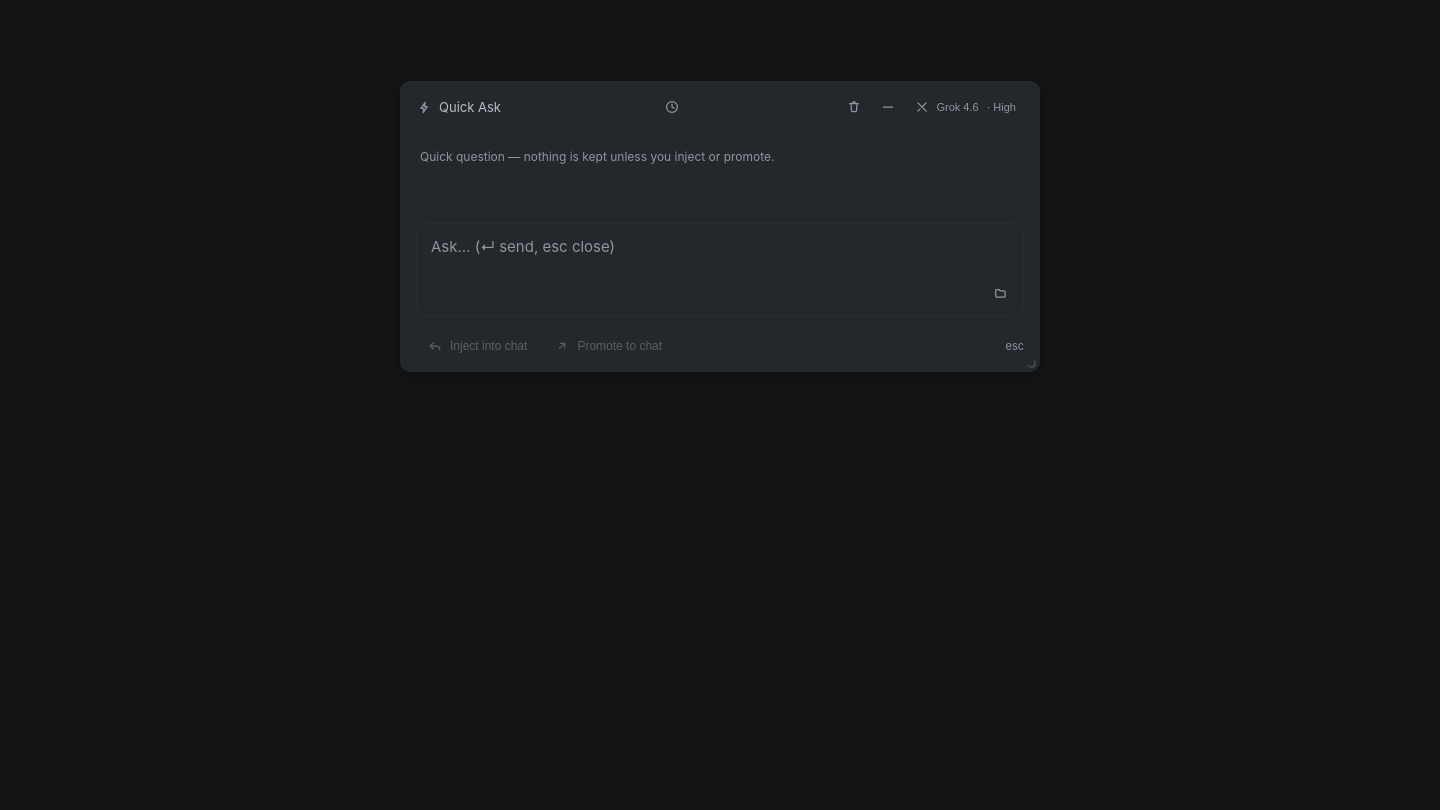
Test: rendu des réponses › affiche un échec générique quand done ok:false n'a pas de détail
The width and height of the screenshot is (1440, 810).
In the text box with placeholder "Ask… (↵ send, esc close)": (720, 270) [425, 232, 1015, 307], type "pourquoi"
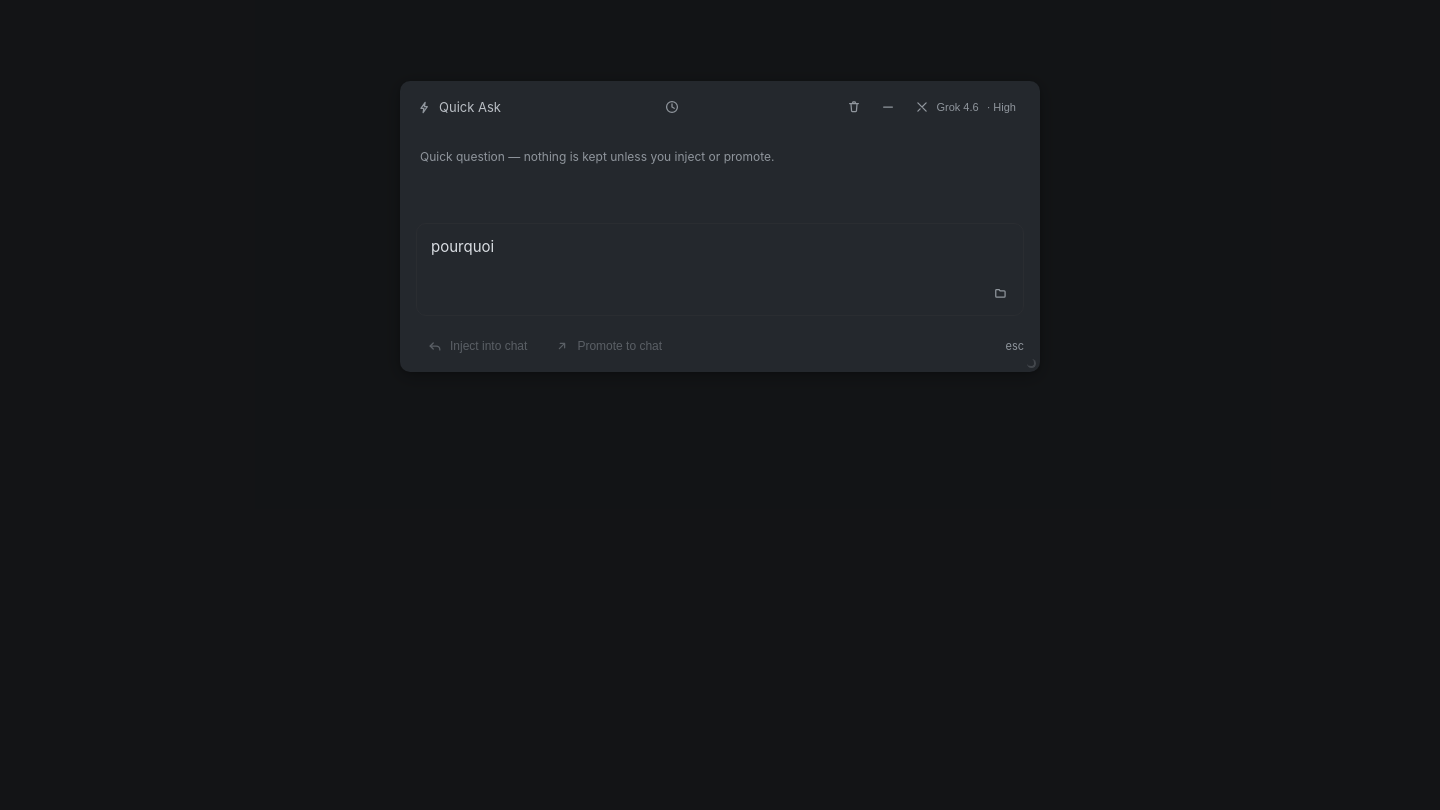
Press Enter in the text box, box [425, 232, 1015, 307]
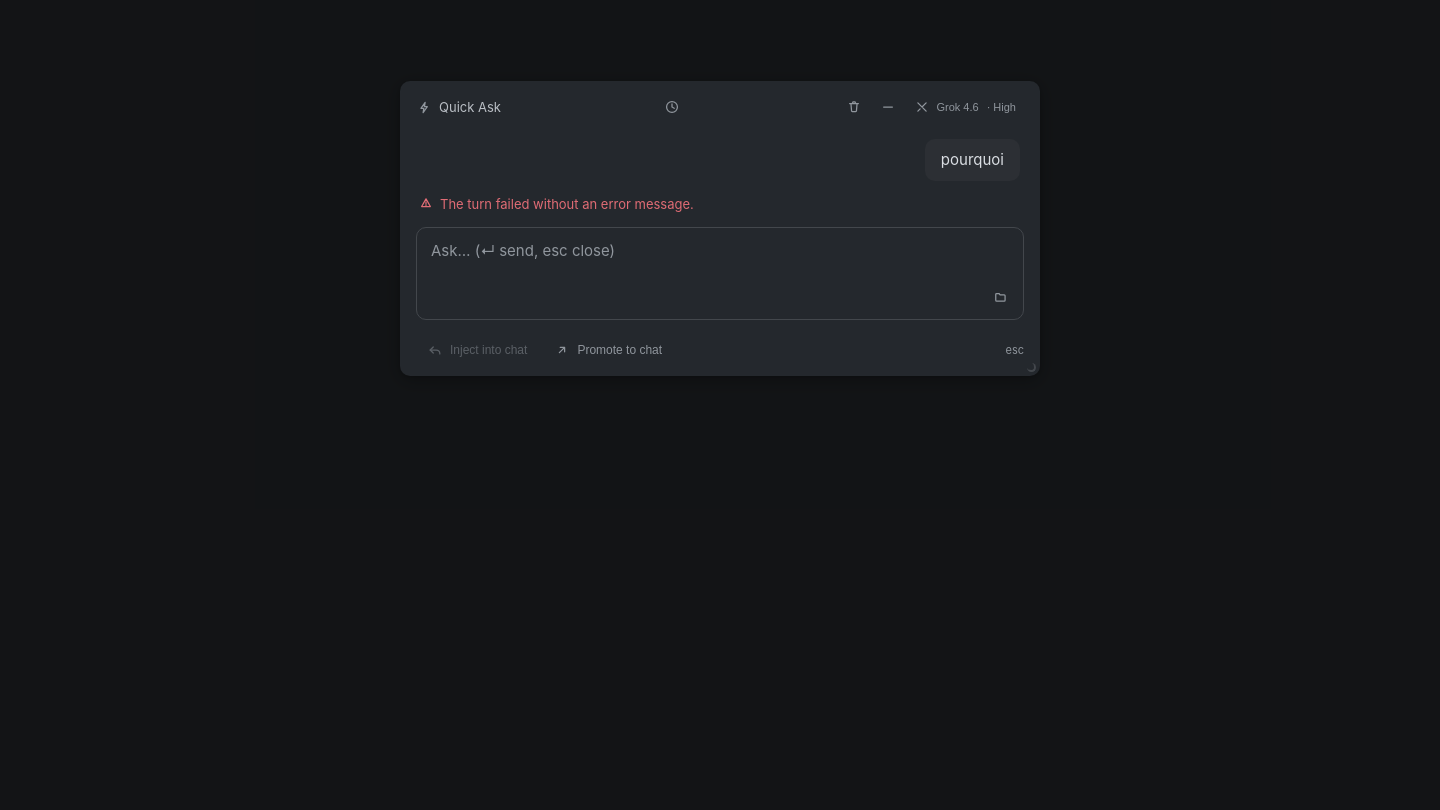
Now the message "The turn failed without an error message." is shown, box [420, 196, 694, 212]
